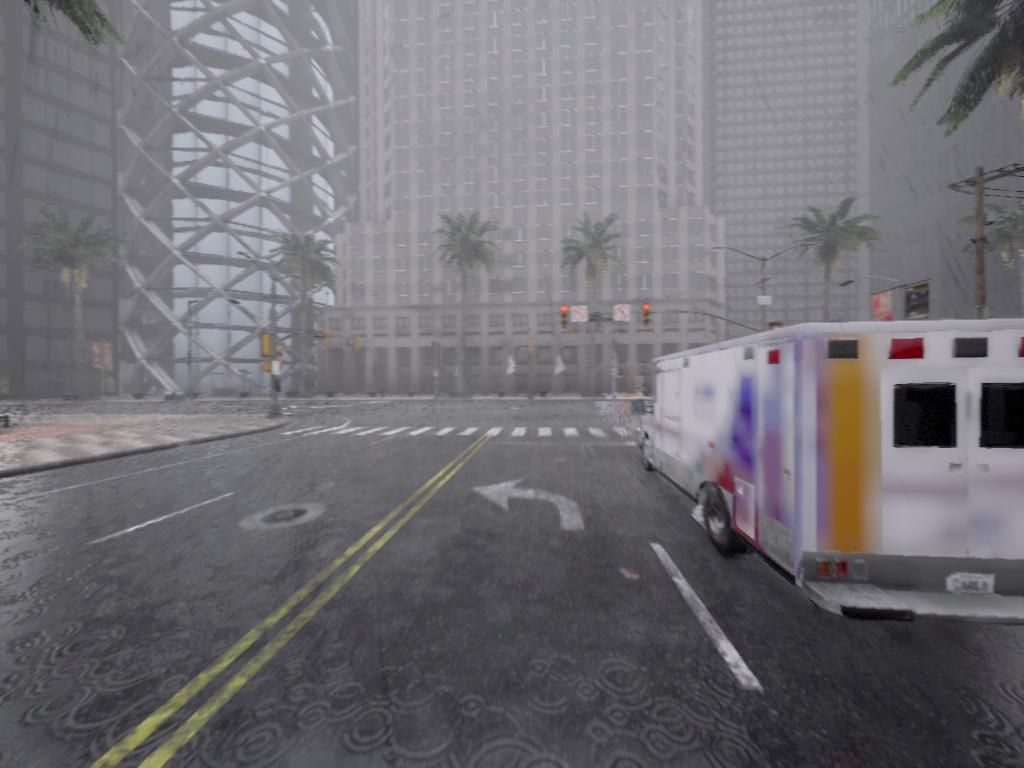traffic_light: (258, 332, 277, 361), (558, 308, 570, 330), (643, 305, 654, 327), (323, 330, 332, 349), (528, 341, 536, 358), (353, 336, 360, 354)
